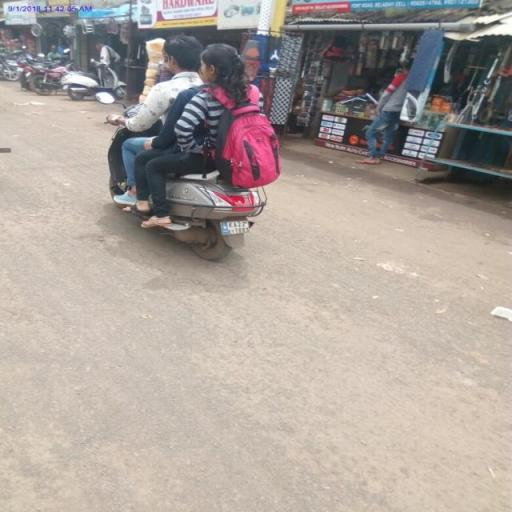tripple riding: (98, 33, 278, 161)
